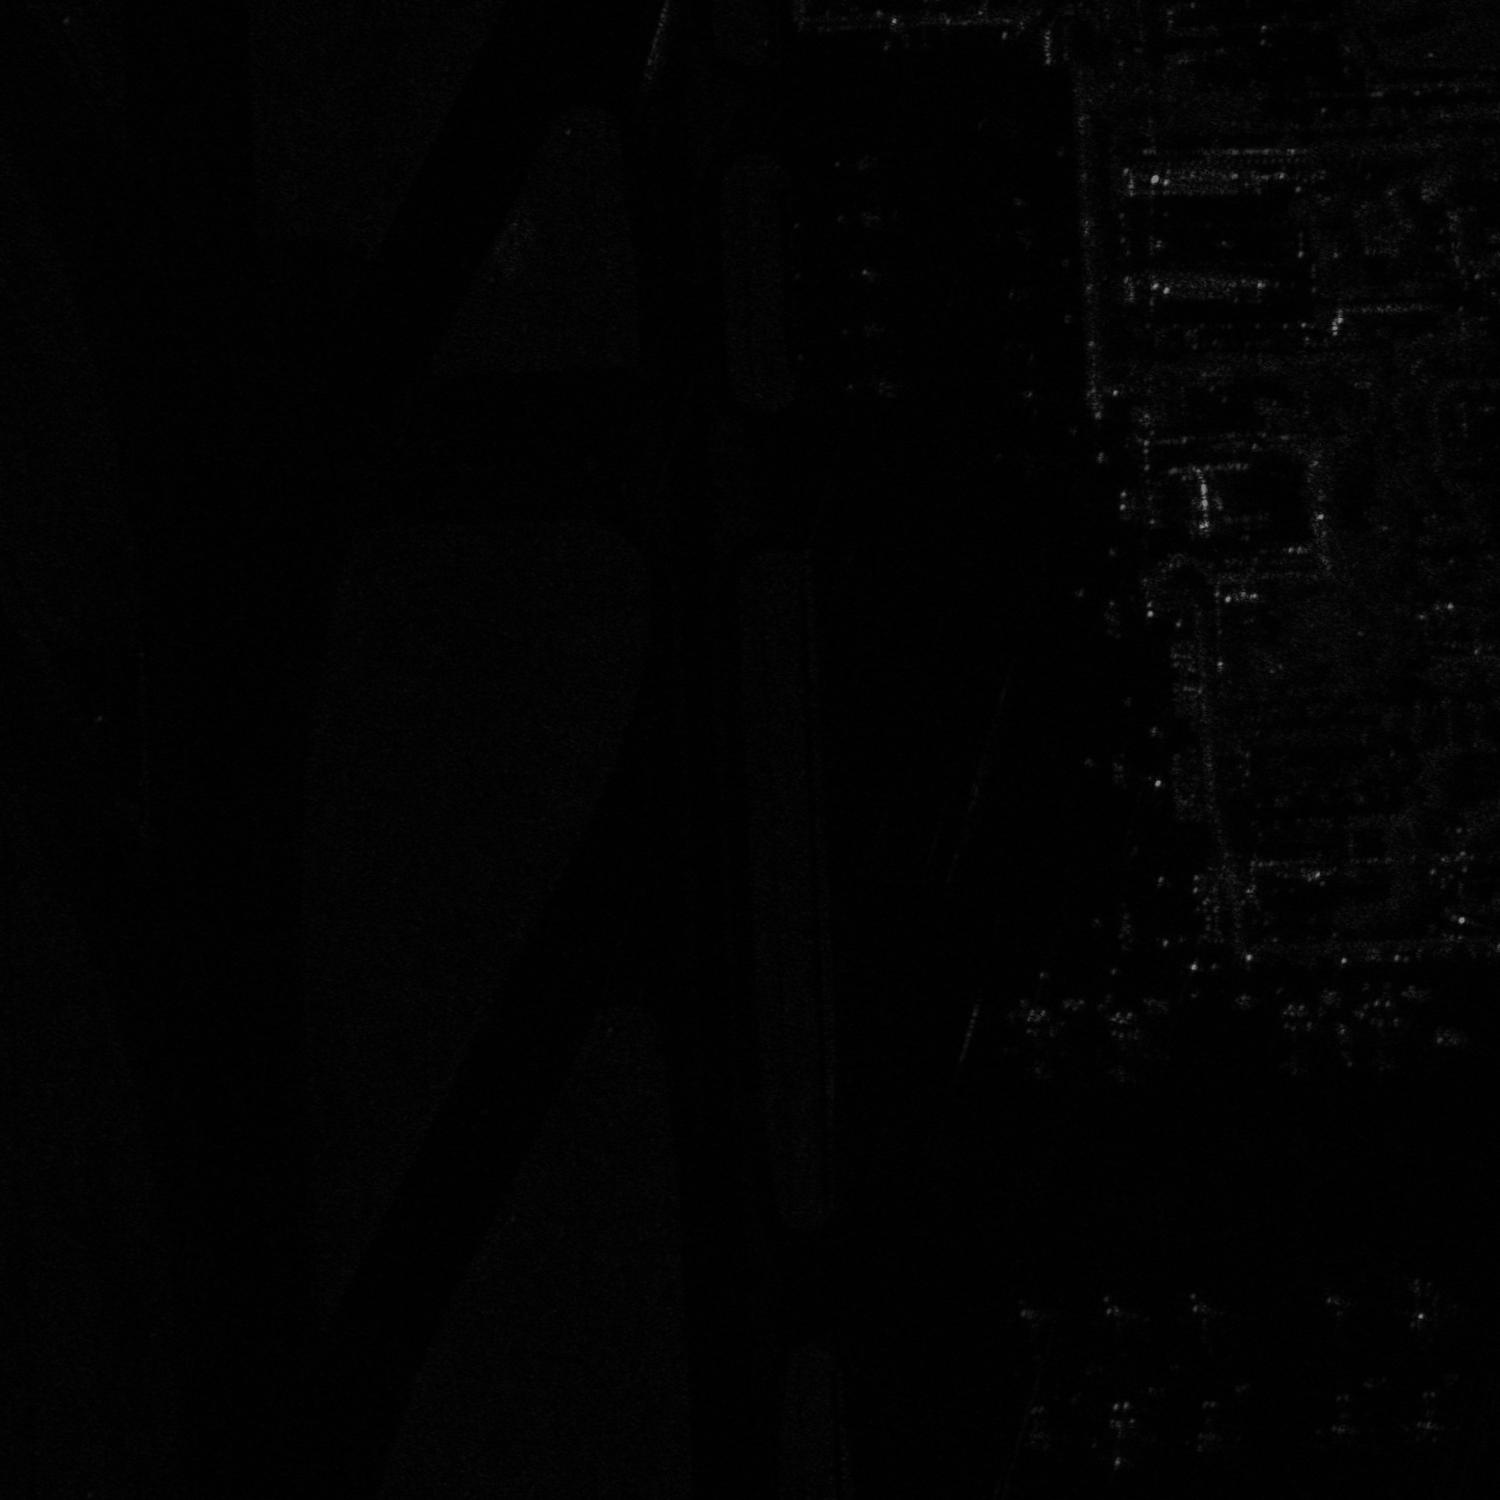A220: (1305, 1390, 1379, 1452)
A320/321: (995, 1001, 1073, 1084)
ARJ21: (1386, 1387, 1475, 1449), (1172, 1393, 1254, 1457), (1001, 1402, 1071, 1459), (832, 199, 890, 236), (848, 254, 898, 291)
Boeing737: (1078, 1001, 1181, 1091), (1260, 990, 1335, 1082), (1080, 1391, 1161, 1477)
other: (1343, 985, 1420, 1078), (1380, 1265, 1471, 1343), (1305, 1277, 1387, 1348), (1166, 1291, 1234, 1357), (995, 1297, 1062, 1361), (1087, 1295, 1154, 1348), (841, 364, 904, 402), (835, 309, 896, 349), (832, 141, 886, 179)
